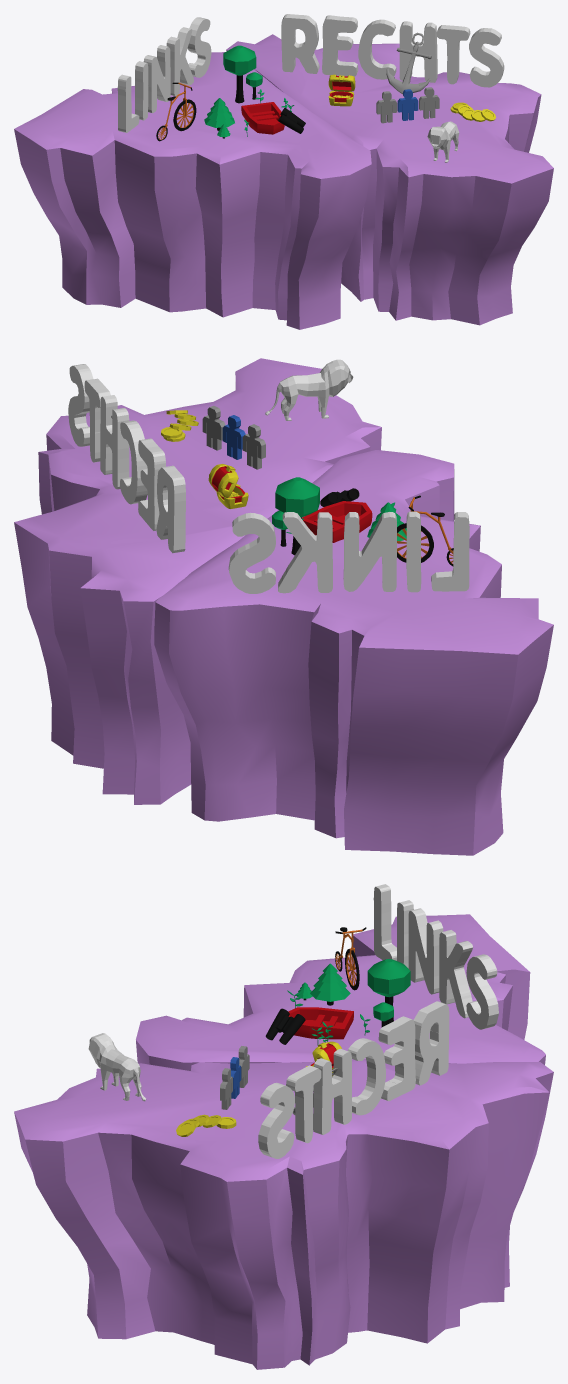
File: 010-links_rechts.glb
3 renders of one model, top to bottom at view 1: azimuth 30°, elevation 25°; view 2: azimuth 150°, elevation 25°; view 3: azimuth 270°, elevation 25°, orthographic. The views are drawn at different scales.
Visible parts, largest first — view 1: GEO.Belgium.L, GEO.Belgium.R; view 2: GEO.Belgium.L, GEO.Belgium.R; view 3: GEO.Belgium.R, GEO.Belgium.L.
Part boxes in pixels (left/top/right/bottom): GEO.Belgium.L: left=14, top=17, right=371, bottom=329; GEO.Belgium.R: left=226, top=14, right=553, bottom=325; GEO.Belgium.L: left=154, top=450, right=553, bottom=855; GEO.Belgium.R: left=14, top=358, right=381, bottom=804; GEO.Belgium.R: left=14, top=1001, right=553, bottom=1369; GEO.Belgium.L: left=136, top=884, right=545, bottom=1070.
Size of what is drawn, in the model's own units: 1.73 by 0.8576 by 1.48.
